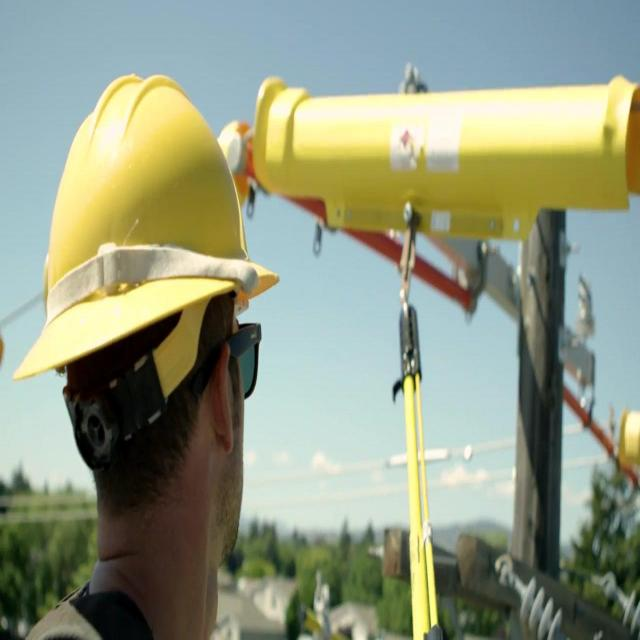Safety-Helmet: (12, 69, 274, 384)
